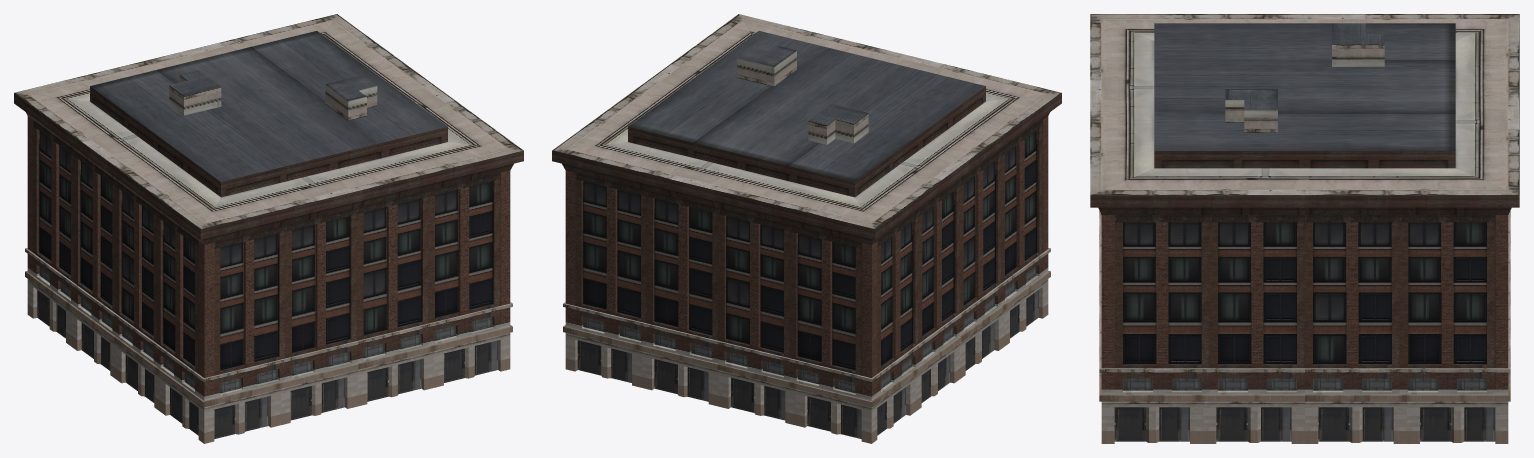
File: residential_3.fbx
3 renders of one model, left to right at view 1: azimuth 30°, elevation 25°; view 2: azimuth 150°, elevation 25°; view 3: azimuth 270°, elevation 25°, orthographic. The views are drawn at different scales.
Parts seen in each view (by area): view 1: Downtown_Residential_3__1_; view 2: Downtown_Residential_3__1_; view 3: Downtown_Residential_3__1_.
Part boxes in pixels (bbox=[...]): Downtown_Residential_3__1_: bbox=[14, 14, 523, 443]; Downtown_Residential_3__1_: bbox=[552, 14, 1061, 443]; Downtown_Residential_3__1_: bbox=[1090, 14, 1519, 443].
Size of the model in its own units: 7887 by 5952 by 7887.
Materials: 2 (2 with a texture image).
